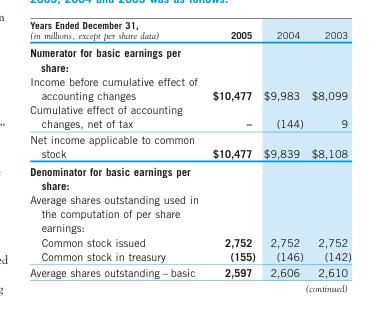table: (29, 28, 350, 277)
table column: (29, 28, 204, 277), (204, 28, 258, 277), (258, 28, 306, 277), (306, 28, 350, 277)
table column header: (29, 28, 350, 43)
table projected row header: (29, 192, 350, 234), (29, 161, 350, 192), (29, 43, 350, 73)
table row: (29, 192, 350, 234), (29, 130, 350, 161), (29, 161, 350, 192), (29, 43, 350, 73), (29, 101, 350, 130), (29, 73, 350, 101), (29, 28, 350, 43), (29, 248, 350, 263), (29, 234, 350, 248), (29, 263, 350, 277)
